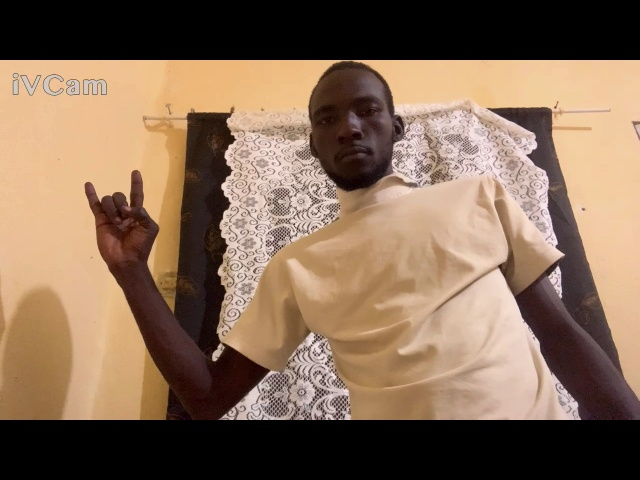je t'aime: (74, 162, 163, 271)
